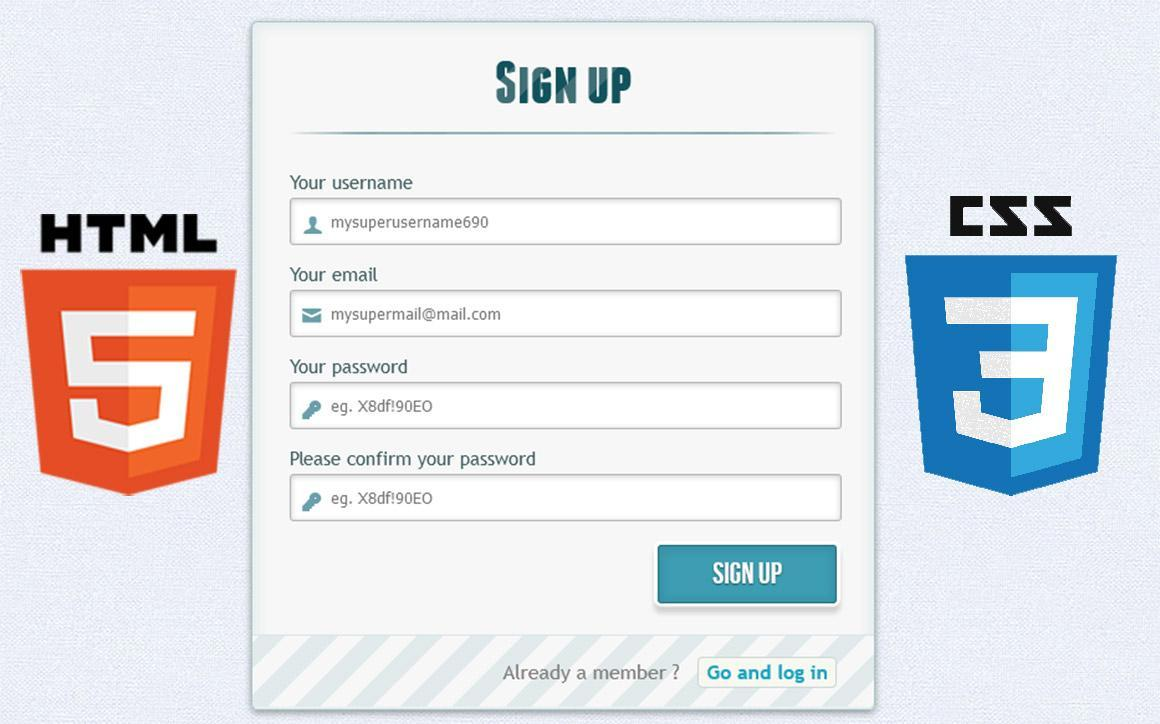button: (659, 546, 838, 603), (696, 657, 840, 690)
input: (291, 475, 842, 523), (290, 200, 844, 247), (292, 292, 843, 339), (293, 384, 843, 430)
label: (292, 449, 538, 472), (284, 175, 417, 197), (289, 357, 412, 380), (289, 266, 381, 286)
